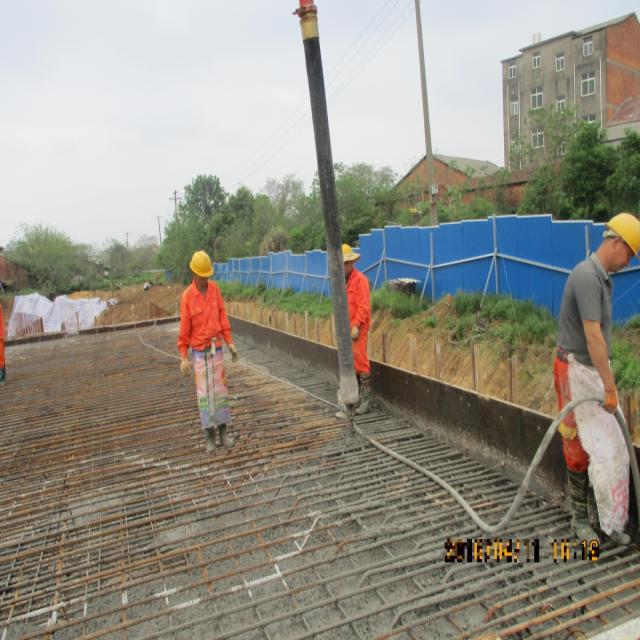truck: (291, 0, 358, 447)
